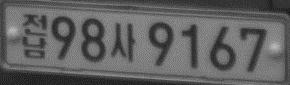1: (178, 23, 204, 68)
6: (209, 25, 236, 70)
7: (240, 27, 268, 71)
8: (80, 17, 106, 61)
9: (148, 21, 174, 66), (51, 15, 76, 59)
사: (111, 22, 136, 61)
전남_V: (22, 12, 48, 58)
